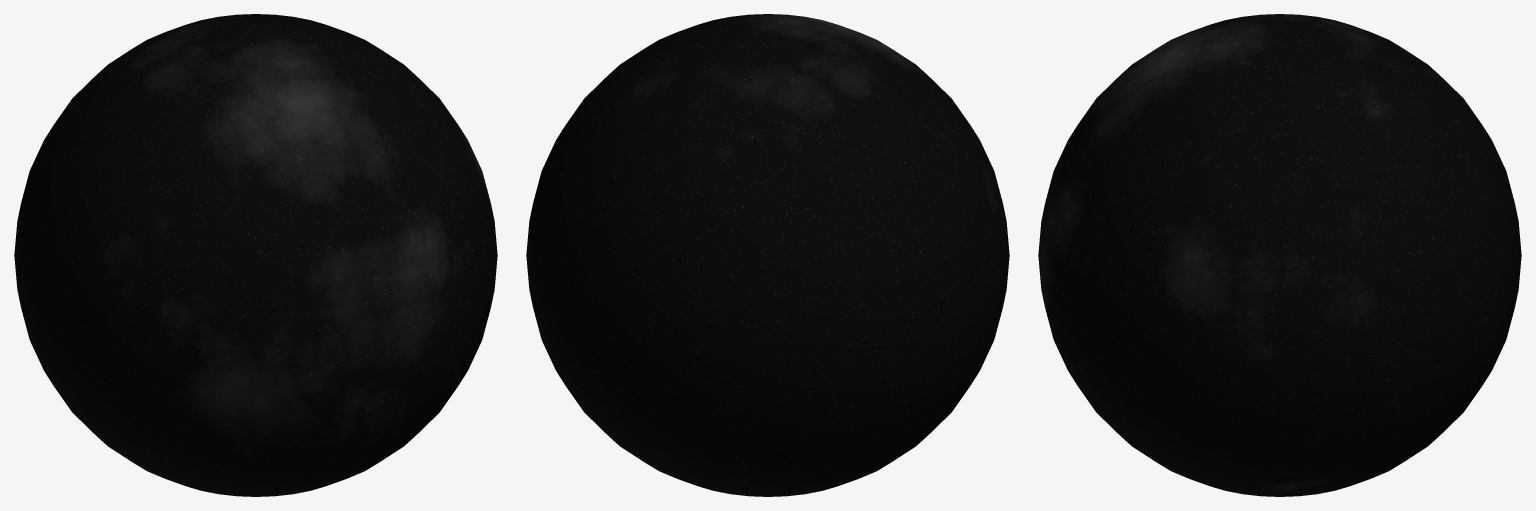
File: starrybg222.glb
3 views of the same model, side by side, from view 1: azimuth 30°, elevation 25°; view 2: azimuth 150°, elevation 25°; view 3: azimuth 270°, elevation 25° (orthographic).
Visible parts, largest first — view 1: Sky_Sphere; view 2: Sky_Sphere; view 3: Sky_Sphere.
Part boxes in pixels (<box>): Sky_Sphere: <box>14,14,497,496</box>; Sky_Sphere: <box>526,14,1009,496</box>; Sky_Sphere: <box>1038,14,1521,496</box>.
Size of the model in its own units: 9.01 by 9.01 by 9.01.
Materials: 1 (1 with a texture image).
